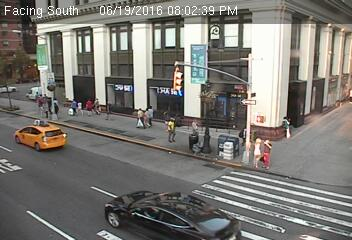neg: (75, 144, 110, 190), (119, 165, 145, 199), (158, 58, 182, 91), (270, 51, 294, 84), (288, 94, 312, 126), (39, 121, 62, 151), (320, 48, 343, 78), (227, 46, 249, 77), (240, 88, 260, 116), (312, 142, 332, 169), (28, 168, 48, 195), (70, 38, 90, 64), (301, 204, 321, 230), (191, 188, 210, 212), (116, 51, 134, 75), (29, 47, 46, 70), (197, 55, 213, 76)
pos: (261, 137, 283, 168), (161, 115, 182, 142), (247, 135, 267, 163), (129, 105, 149, 132), (144, 102, 163, 128)
